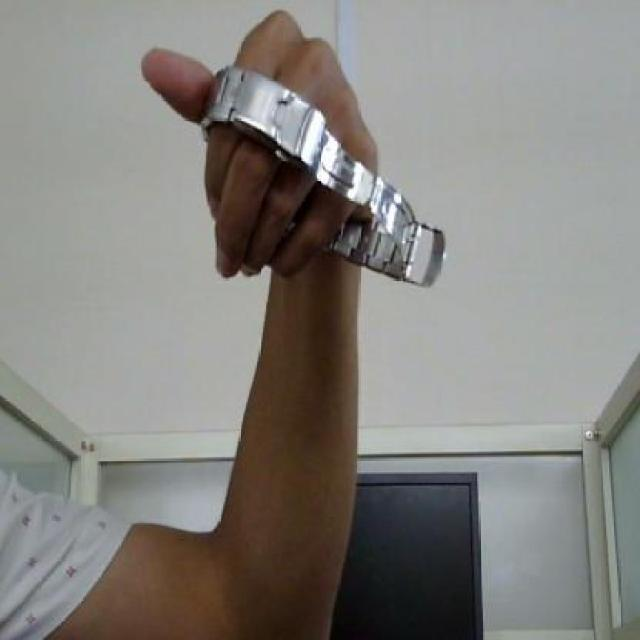Metal: (200, 65, 448, 291)
